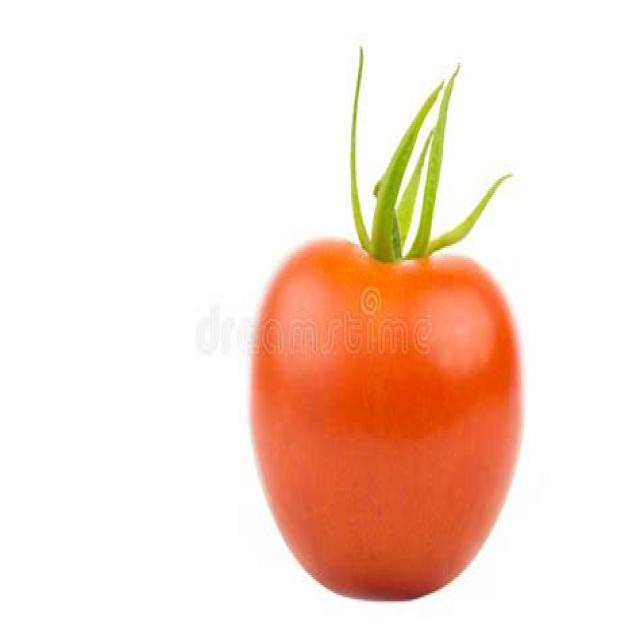Tomato: (248, 239, 527, 605)
